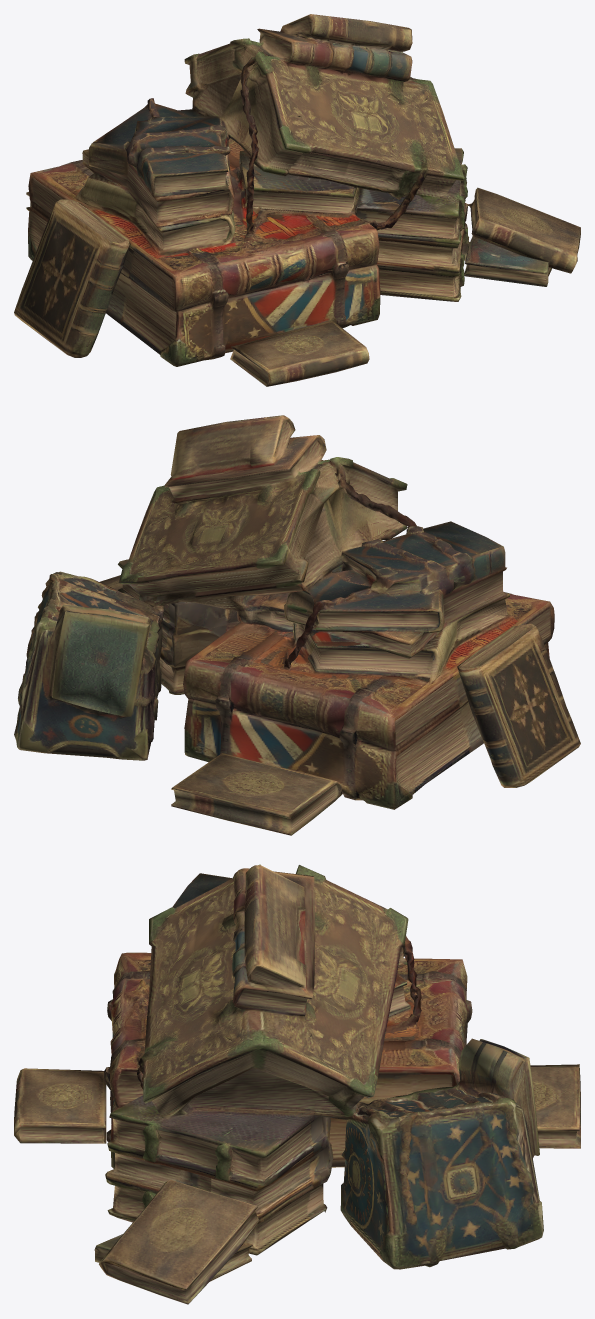
Rendered from Meshy_AI_Pile_of_Ancient_Tomes_0504150906_texture.fbx.
The picture shows the model from 3 angles, top to bottom: view 1: azimuth 30°, elevation 25°; view 2: azimuth 150°, elevation 25°; view 3: azimuth 270°, elevation 25°; orthographic projection. The views are drawn at different scales.
Visible parts, largest first — view 1: Mesh_0; view 2: Mesh_0; view 3: Mesh_0.
Boxes of the visible parts, x1,y1,x2,y2 form: Mesh_0: (14, 14, 580, 386); Mesh_0: (14, 415, 580, 835); Mesh_0: (14, 864, 580, 1304).
Bounding box in the file's own units: 191 × 96.61 × 161.
Materials: 1 (1 with a texture image).
